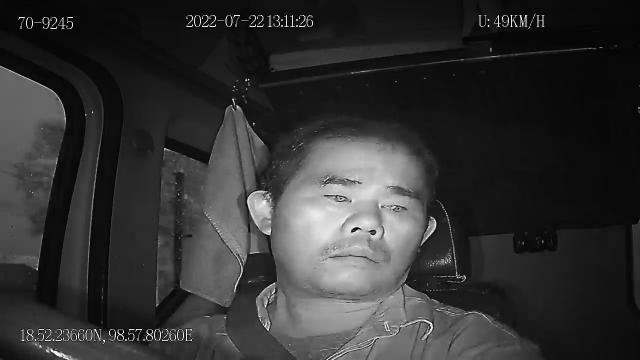SafeDriving: (313, 180, 361, 211), (376, 190, 416, 221)
Seatbelt: (224, 290, 300, 360)
